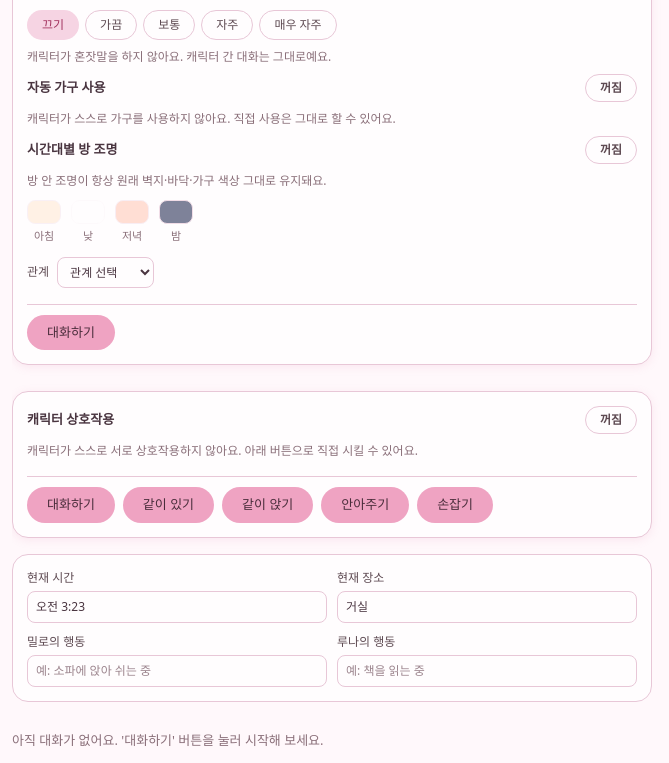
Test: 캐릭터끼리 상호작용 시스템 (생활 시뮬레이션 2단계) › 설정: 기본값·저장·전역 on/off › Live 화면의 토글 버튼으로 켜고 끌 수 있다
(page scrolled)
Click the button with aria-label "캐릭터 상호작용 꺼짐".
click(611, 420)  # box [585, 406, 637, 434]
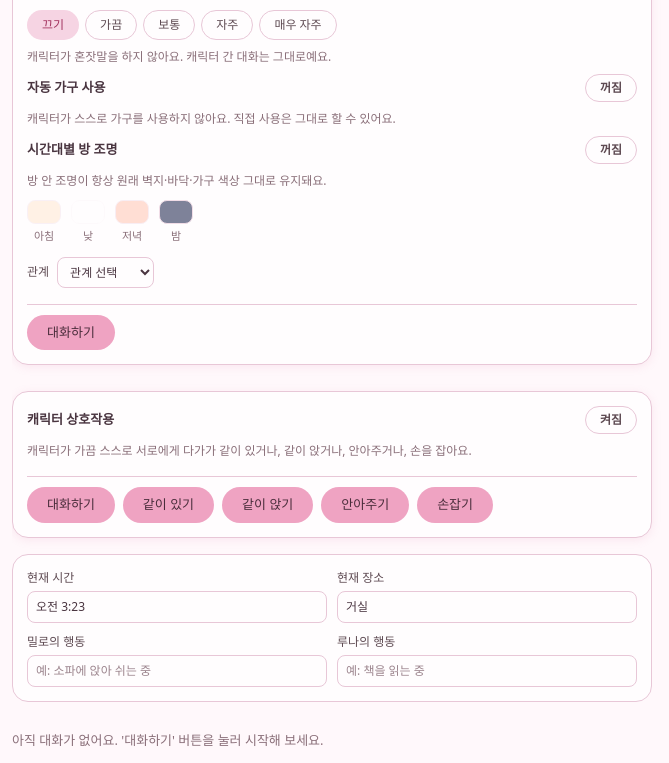
Expected: the button with aria-label "캐릭터 상호작용 켜짐" is shown, [585, 406, 637, 434]
